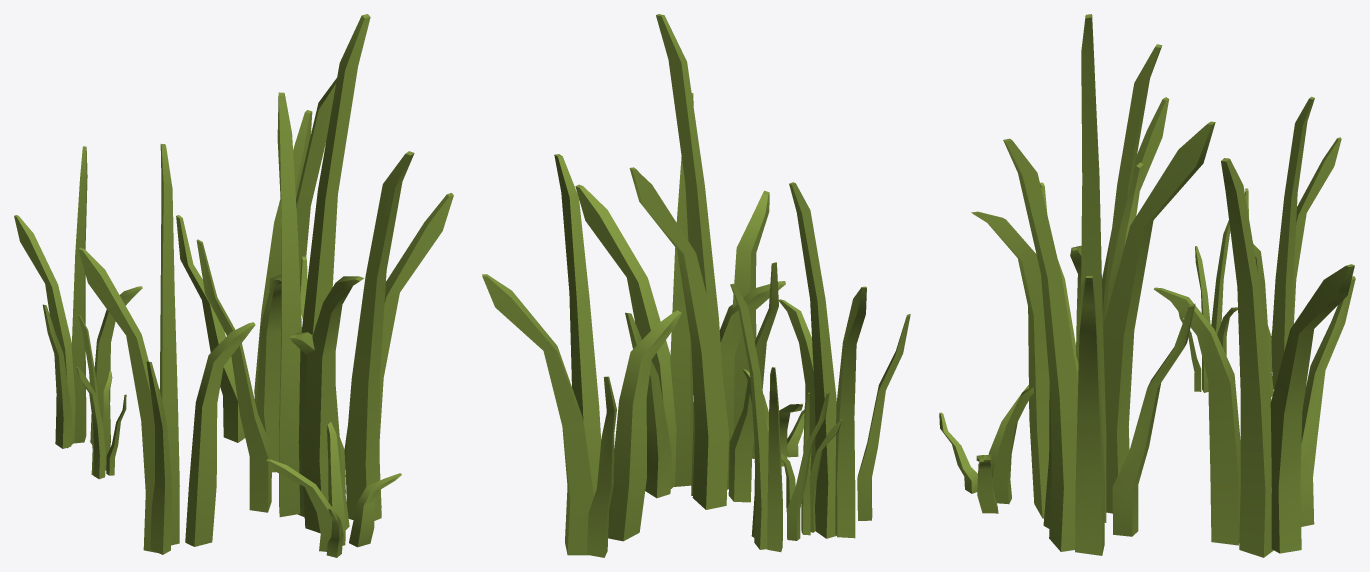
The model's file is Grass2.fbx.
3 views of the same model, side by side, from view 1: azimuth 30°, elevation 25°; view 2: azimuth 150°, elevation 25°; view 3: azimuth 270°, elevation 25° (orthographic). The views are drawn at different scales.
Parts seen in each view (by area): view 1: GrassLighter2; view 2: GrassLighter2; view 3: GrassLighter2.
Part boxes in pixels (x1,y1,x2,y2): GrassLighter2: (14,14,453,557); GrassLighter2: (482,14,910,557); GrassLighter2: (939,14,1355,557).
Bounding box in the file's own units: 1.62 × 2.26 × 1.59.
